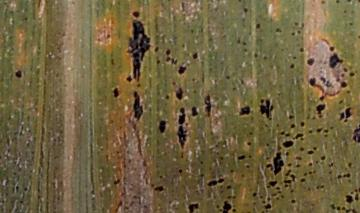tarspot: (125, 20, 152, 82), (174, 125, 189, 151), (131, 90, 143, 121), (258, 98, 274, 121), (272, 151, 284, 176), (202, 94, 214, 118), (328, 53, 344, 69), (157, 118, 167, 135), (177, 107, 187, 124), (352, 123, 360, 144), (314, 104, 326, 117), (238, 105, 250, 117), (187, 201, 199, 213), (174, 87, 184, 101), (307, 77, 317, 90), (222, 199, 231, 213), (189, 106, 199, 118), (344, 106, 352, 120), (206, 179, 218, 188), (177, 65, 187, 75), (344, 193, 353, 204), (282, 140, 294, 148), (14, 69, 23, 79), (131, 10, 141, 19), (112, 87, 120, 98), (153, 185, 164, 193), (306, 57, 314, 67), (340, 80, 348, 90), (264, 203, 273, 211), (265, 163, 273, 172), (295, 132, 304, 140), (319, 76, 327, 85), (236, 154, 246, 161), (329, 201, 336, 211), (267, 180, 278, 186), (327, 161, 335, 169), (252, 52, 260, 60), (315, 126, 322, 135), (342, 172, 351, 179), (285, 168, 292, 177), (112, 178, 121, 185), (179, 150, 185, 160), (125, 75, 133, 82), (217, 177, 224, 185), (318, 94, 325, 102), (306, 149, 314, 156), (170, 57, 177, 65), (274, 27, 282, 34), (288, 114, 295, 122), (339, 111, 344, 122), (191, 51, 197, 60), (307, 129, 314, 136), (284, 131, 291, 138), (242, 7, 249, 14), (292, 20, 299, 27), (224, 74, 231, 81), (241, 40, 248, 47), (165, 48, 171, 56), (290, 123, 296, 131), (322, 128, 330, 134), (289, 173, 295, 181), (299, 46, 305, 54), (295, 154, 303, 160), (263, 155, 271, 161), (355, 193, 359, 204), (176, 168, 183, 174), (329, 45, 335, 52), (154, 59, 161, 65), (246, 140, 252, 147), (289, 198, 295, 205), (289, 63, 295, 70), (299, 177, 306, 183), (319, 155, 325, 162), (336, 173, 342, 180), (346, 161, 352, 168), (225, 184, 232, 190), (264, 142, 271, 148), (284, 150, 290, 157), (319, 183, 325, 190), (163, 56, 170, 62), (302, 171, 308, 178), (314, 158, 320, 165), (289, 30, 295, 37), (22, 185, 28, 192), (135, 82, 142, 88), (255, 22, 260, 30), (154, 45, 159, 53), (251, 191, 256, 199), (348, 72, 356, 77), (283, 179, 291, 184), (344, 208, 352, 213), (315, 184, 320, 192), (300, 22, 305, 30), (278, 194, 286, 199), (15, 185, 20, 193), (299, 121, 305, 127), (351, 207, 357, 213), (352, 188, 358, 194), (286, 161, 292, 167), (199, 172, 205, 178), (242, 48, 248, 54), (339, 71, 345, 77), (157, 173, 163, 179), (348, 21, 354, 27), (279, 130, 284, 137), (295, 163, 300, 170), (245, 163, 250, 170), (282, 183, 289, 188), (270, 192, 277, 197), (199, 159, 204, 166), (288, 188, 295, 193), (247, 153, 252, 160), (236, 38, 241, 45), (343, 66, 348, 73), (22, 16, 29, 21), (248, 130, 253, 137), (356, 33, 360, 41), (231, 207, 236, 213), (164, 94, 169, 100), (308, 161, 313, 167), (229, 168, 234, 174), (299, 146, 304, 152), (226, 194, 231, 200), (231, 195, 237, 200), (274, 186, 280, 191), (258, 194, 264, 199), (215, 203, 220, 209), (230, 86, 236, 91), (239, 79, 244, 85), (308, 169, 312, 176), (220, 156, 224, 163), (18, 200, 25, 204), (240, 173, 245, 178), (106, 33, 111, 38), (341, 205, 345, 211), (336, 205, 340, 211), (266, 196, 270, 202), (320, 1, 326, 5), (336, 77, 340, 83), (334, 1, 341, 4), (296, 30, 300, 35), (358, 186, 360, 194), (357, 1, 360, 4), (346, 1, 351, 2)
